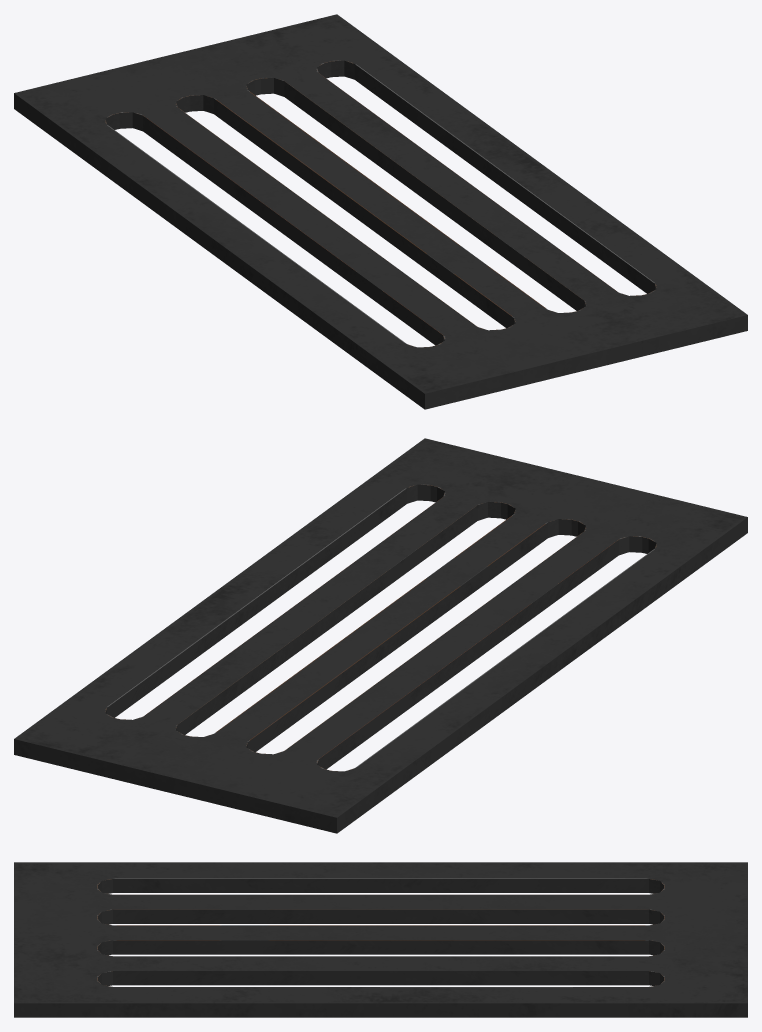
Rendered from VentPiece.fbx.
3 views of the same model, one above another, from view 1: azimuth 30°, elevation 25°; view 2: azimuth 150°, elevation 25°; view 3: azimuth 270°, elevation 25° (orthographic). The views are drawn at different scales.
Parts seen in each view (by area): view 1: VentPiece; view 2: VentPiece; view 3: VentPiece.
Part boxes in pixels (x1,y1,x2,y2): VentPiece: (14,14,747,409); VentPiece: (14,438,747,833); VentPiece: (14,862,747,1017).
Bounding box in the file's own units: 104 × 4.89 × 229.
